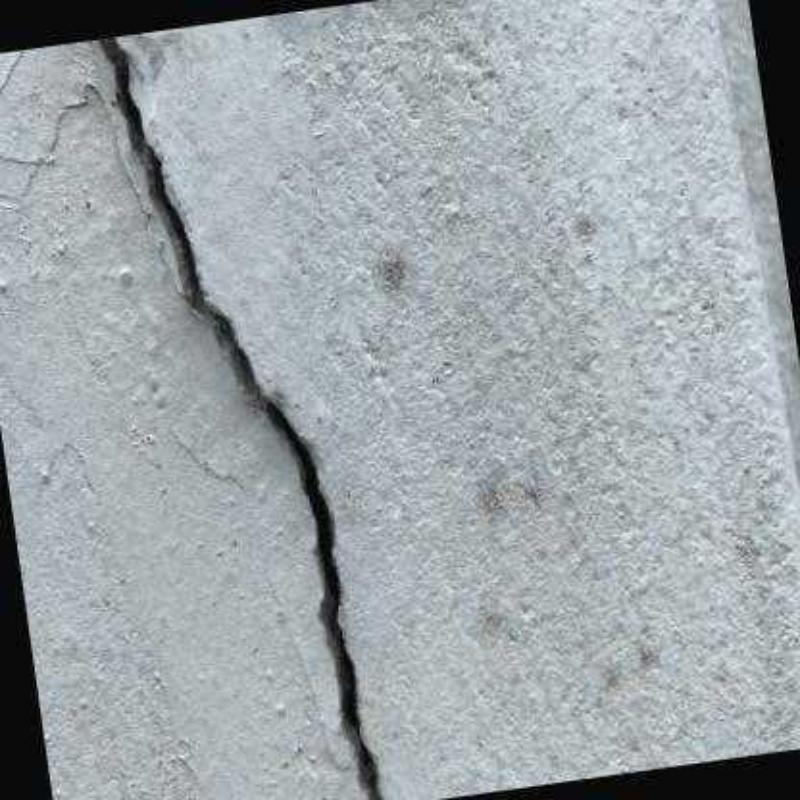pothole: (92, 36, 388, 800)
